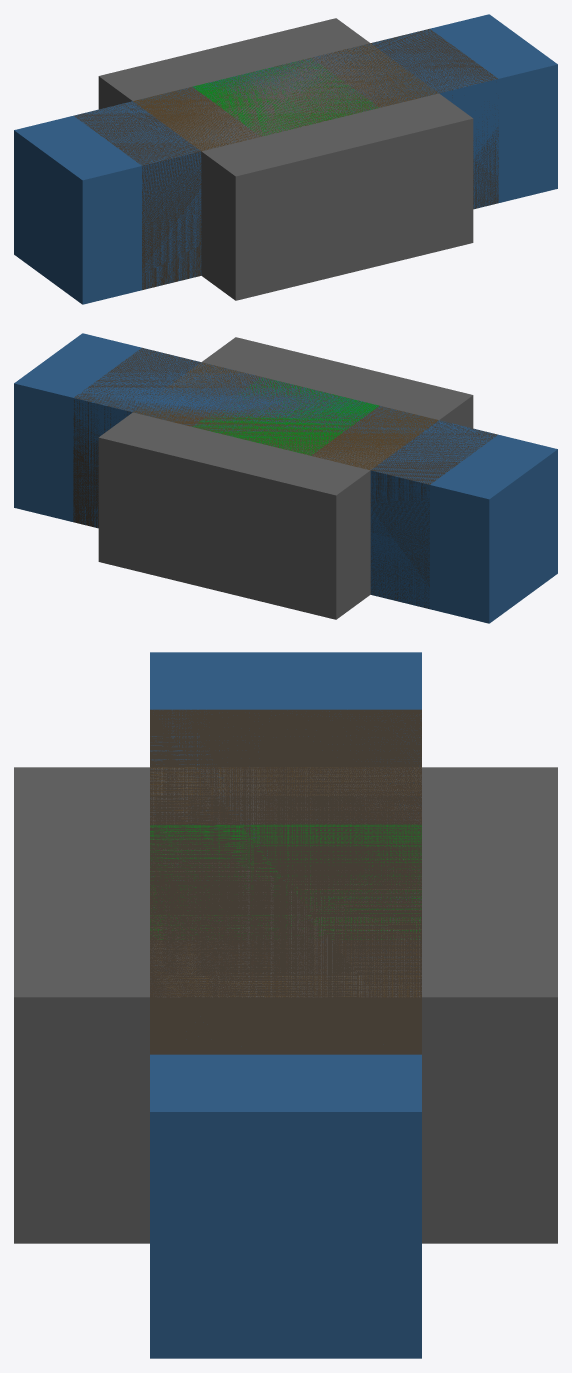
The model's file is Boxes_Pieces_for_PhysX_Pack1_01.FBX.
The picture shows the model from 3 angles, top to bottom: view 1: azimuth 30°, elevation 25°; view 2: azimuth 150°, elevation 25°; view 3: azimuth 270°, elevation 25°; orthographic projection. The views are drawn at different scales.
Parts seen in each view (by area): view 1: Box_size_2x2_1_01, Box_size_1x4_1_01, Box_size_1x3_1_01, Box_Size_1x2_1_01, Box_Size_1x1_1_01; view 2: Box_size_1x4_1_01, Box_size_2x2_1_01, Box_size_1x3_1_01, Box_Size_1x2_1_01, Box_Size_1x1_1_01; view 3: Box_size_2x2_1_01, Box_size_1x4_1_01, Box_size_1x3_1_01, Box_Size_1x2_1_01, Box_Size_1x1_1_01.
Part boxes in pixels (x1,y1,x2,y2): Box_size_2x2_1_01: (98,18,473,300); Box_size_1x4_1_01: (14,14,557,304); Box_size_1x3_1_01: (74,28,498,289); Box_Size_1x2_1_01: (133,43,438,151); Box_Size_1x1_1_01: (192,58,379,135); Box_size_1x4_1_01: (14,333,557,623); Box_size_2x2_1_01: (98,337,473,619); Box_size_1x3_1_01: (73,347,497,608); Box_Size_1x2_1_01: (133,362,438,470); Box_Size_1x1_1_01: (192,377,379,455); Box_size_2x2_1_01: (14,767,557,1243); Box_size_1x4_1_01: (150,652,421,1358); Box_size_1x3_1_01: (150,709,421,1054); Box_Size_1x2_1_01: (150,767,421,997); Box_Size_1x1_1_01: (150,824,421,939).
Size of the model in its own units: 4 by 1 by 2.
